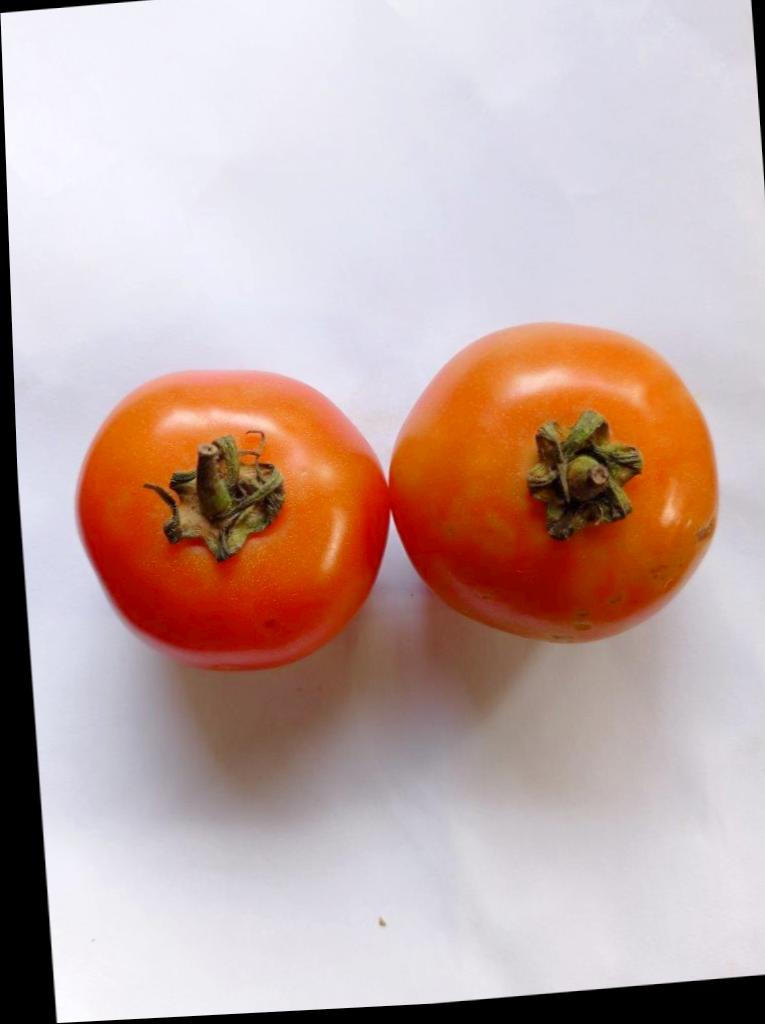tomato: (390, 323, 716, 642), (76, 371, 386, 669)
